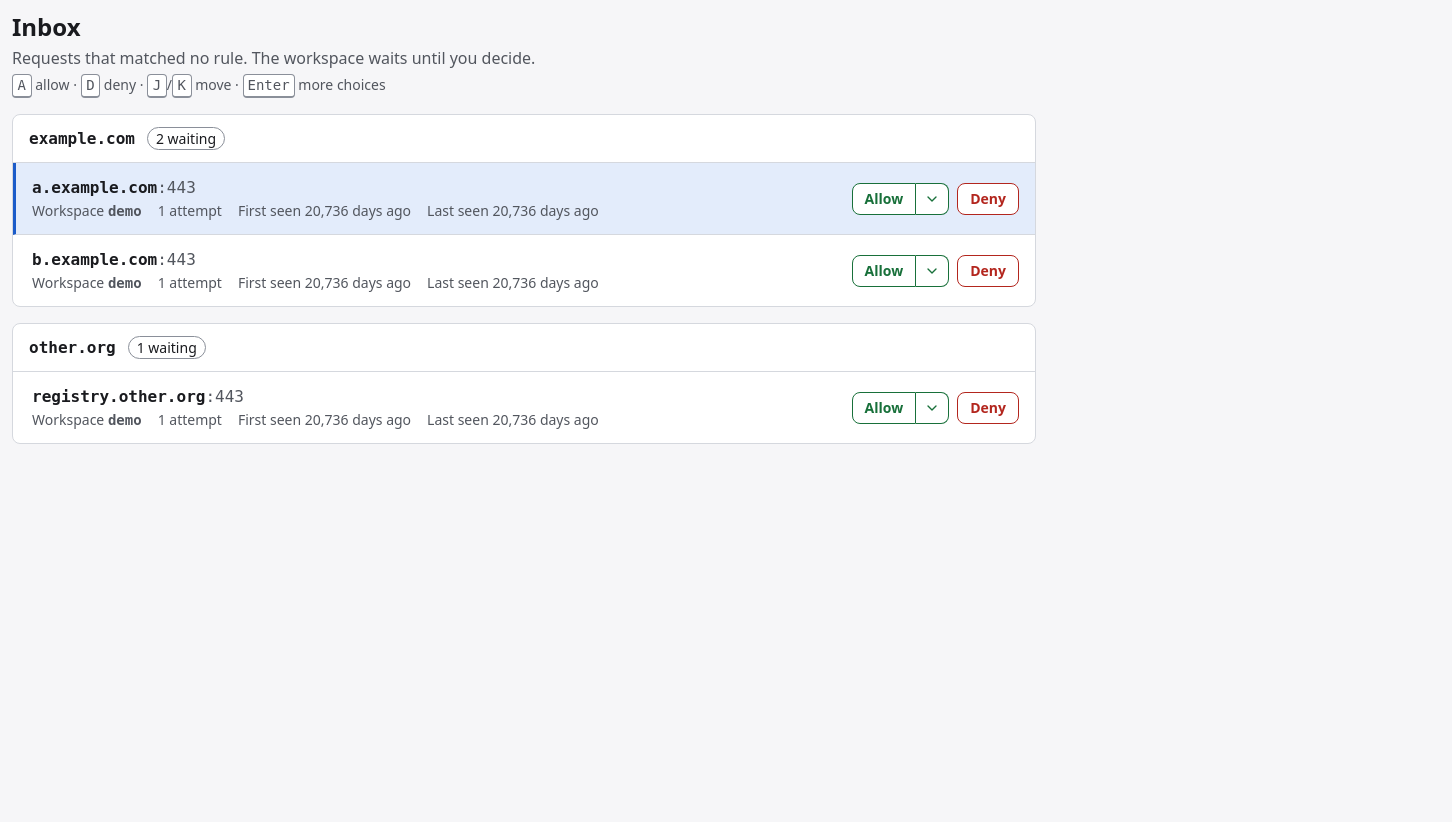
it: deciding with the buttons › allows one host for one workspace with one click, announces it, and closes the row
Expected: the heading "example.com" is shown, left=29, top=128, right=135, bottom=148
Click the button with aria-label "Allow a.example.com for demo": (884, 198) left=852, top=182, right=916, bottom=214
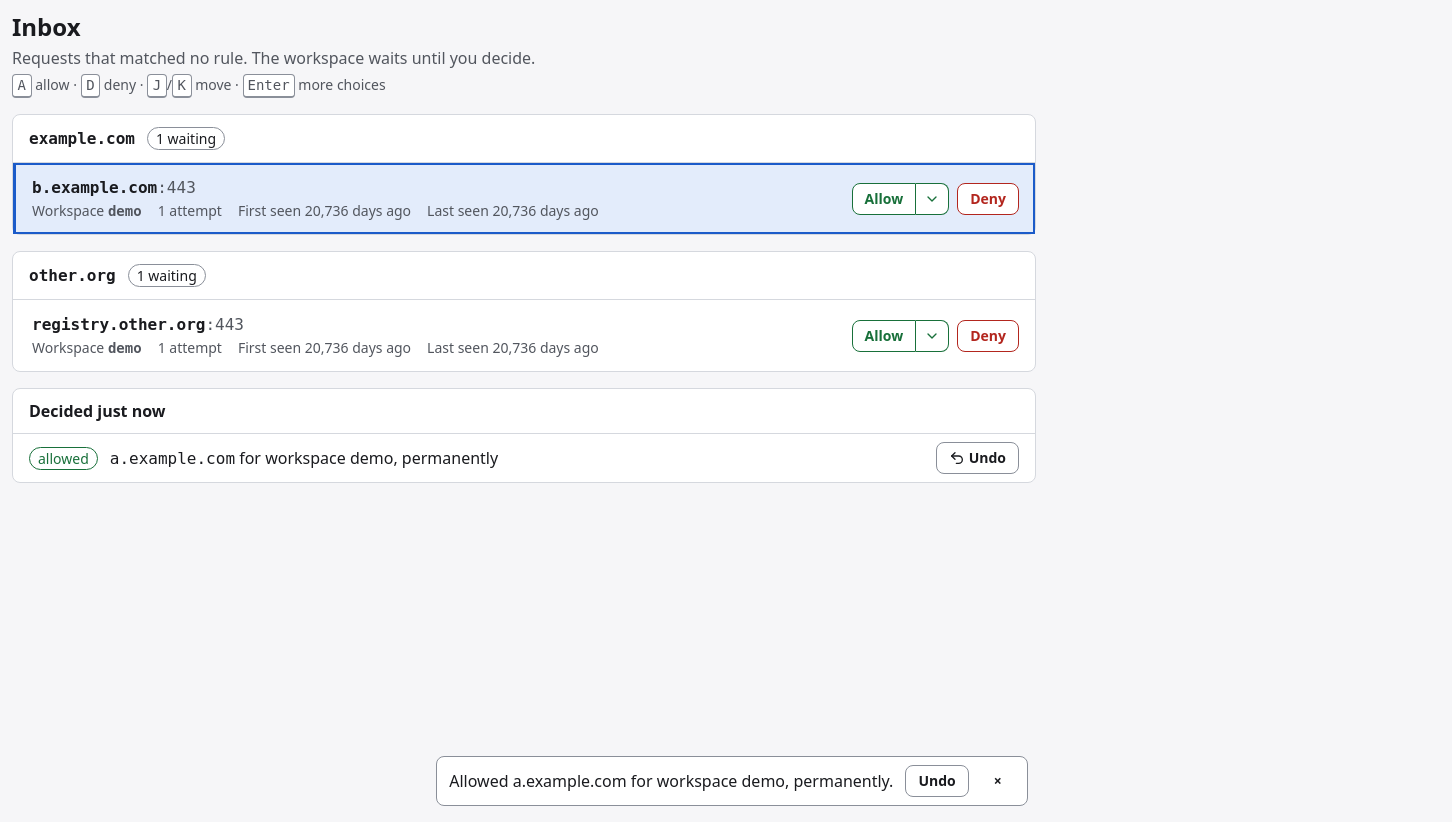
Result: the message shows "Allowed a.example.com for workspace demo, permanently." at left=449, top=770, right=894, bottom=792
Result: the text "allowed" is shown at left=29, top=446, right=98, bottom=470
